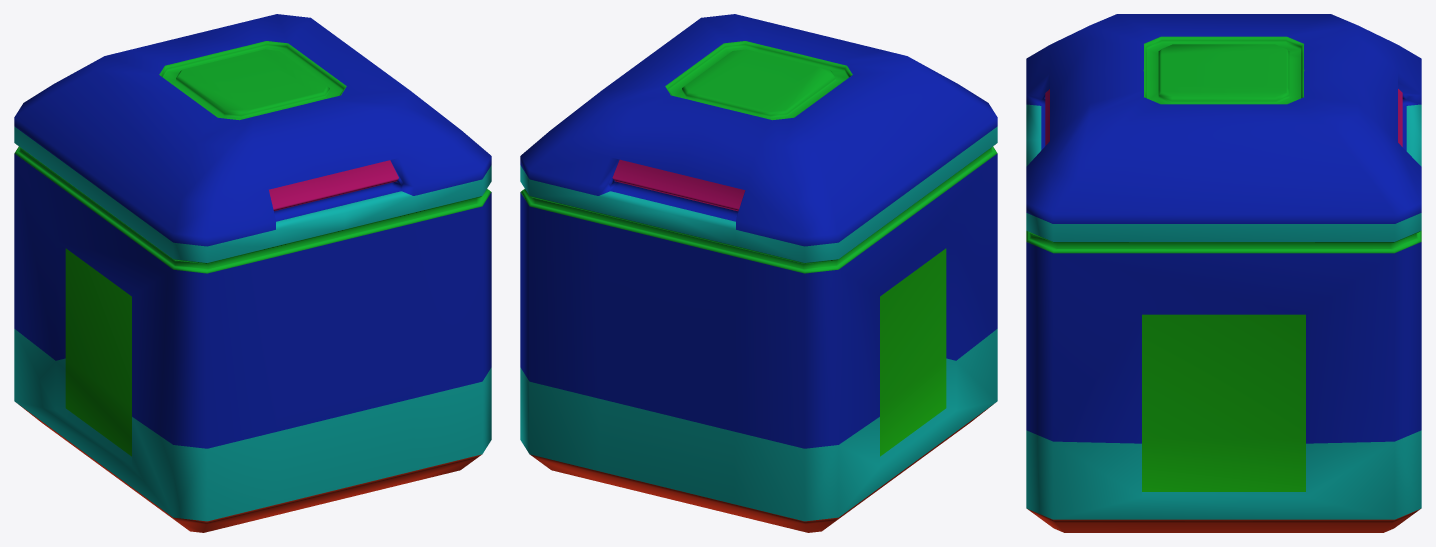
The model's file is Crate_Final.fbx.
3 renders of one model, left to right at view 1: azimuth 30°, elevation 25°; view 2: azimuth 150°, elevation 25°; view 3: azimuth 270°, elevation 25°, orthographic. The views are drawn at different scales.
Parts seen in each view (by area): view 1: Crate_Lowpoly; view 2: Crate_Lowpoly; view 3: Crate_Lowpoly.
Boxes of the visible parts, x1,y1,x2,y2 form: Crate_Lowpoly: (14, 14, 491, 532); Crate_Lowpoly: (520, 14, 997, 532); Crate_Lowpoly: (1026, 14, 1421, 532).
Bounding box in the file's own units: 2.05 × 2.24 × 2.05.
